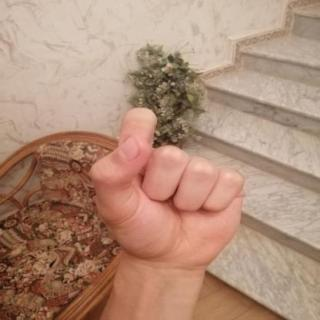FAA: (77, 101, 255, 279)
